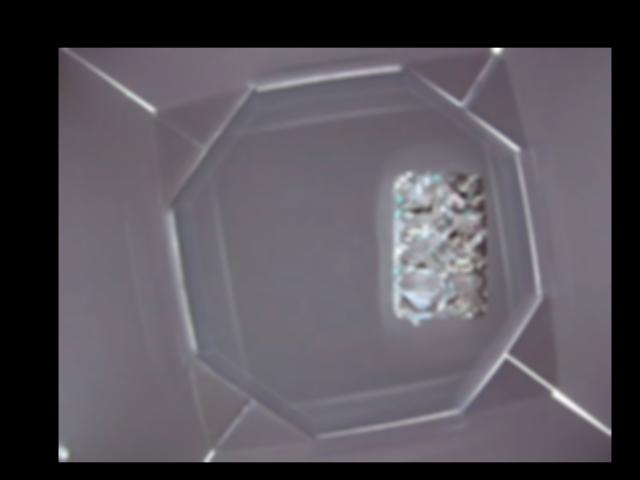Medicine: (392, 167, 490, 322)
